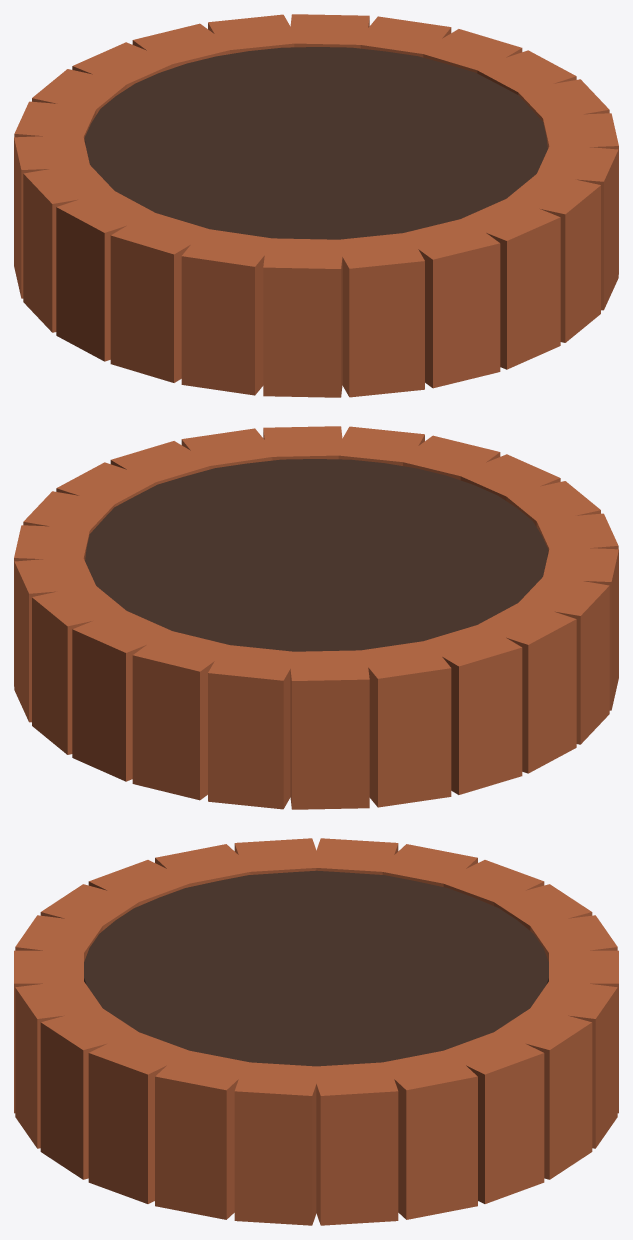
The picture shows the model from 3 angles, top to bottom: view 1: azimuth 30°, elevation 25°; view 2: azimuth 150°, elevation 25°; view 3: azimuth 270°, elevation 25°; orthographic projection.
Visible parts, largest first — view 1: jardinera_patio; view 2: jardinera_patio; view 3: jardinera_patio.
Part boxes in pixels (bbox=[...]): jardinera_patio: bbox=[14, 14, 618, 397]; jardinera_patio: bbox=[14, 426, 618, 809]; jardinera_patio: bbox=[14, 838, 618, 1225].
Size of the model in its own units: 1.92 by 1.9 by 0.45.
